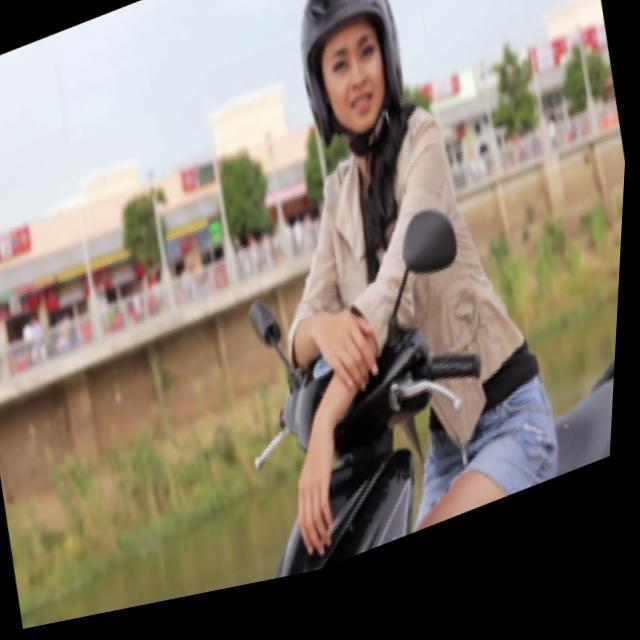Helmet: (283, 0, 420, 160)
